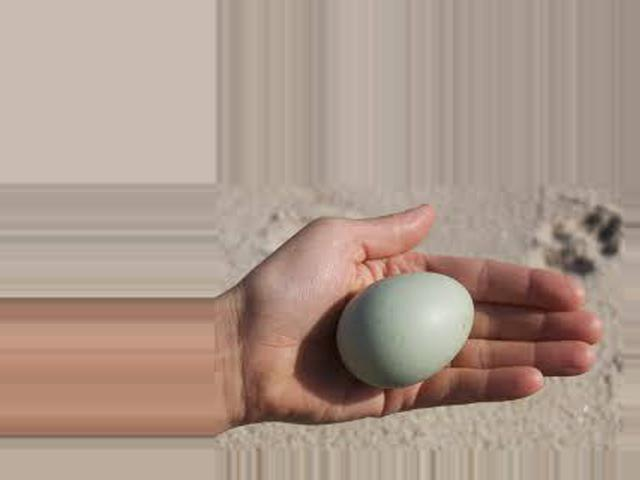egg: (339, 274, 471, 388)
